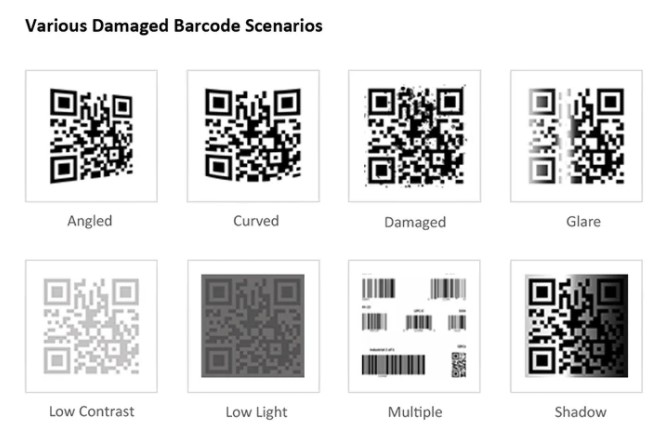QR_CODE: (192, 267, 315, 385), (355, 76, 472, 193), (517, 267, 635, 382), (34, 267, 149, 383), (194, 79, 308, 189), (520, 80, 632, 191), (37, 79, 146, 189), (447, 348, 474, 380)
